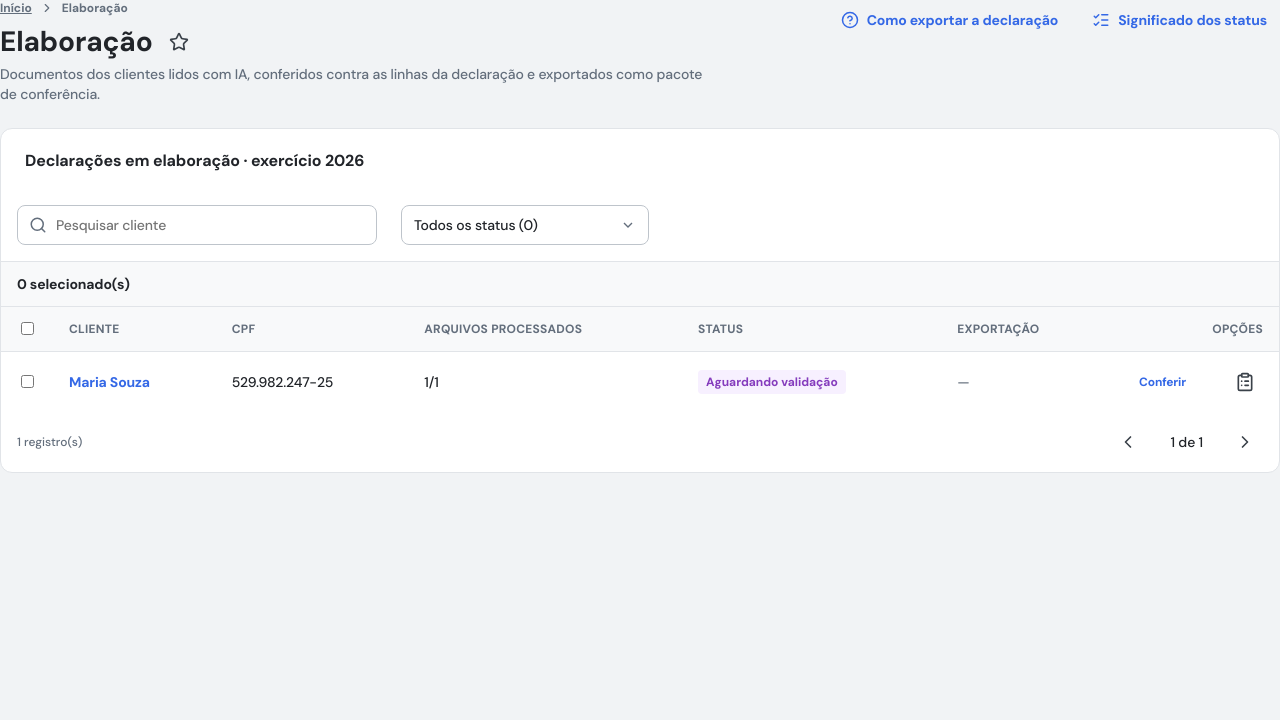
ElaborationPage: permissões iguais às do servidor (CON-14) › pre_declaration.edit decide as linhas, sem processar nem validar
This screenshot has width=1280, height=720.
Expected: the link "Maria Souza" is shown, 69,373 -> 150,391
Step 1. Click the button "Conferir" → coordinates (1162, 382), box 1122,366 -> 1203,398
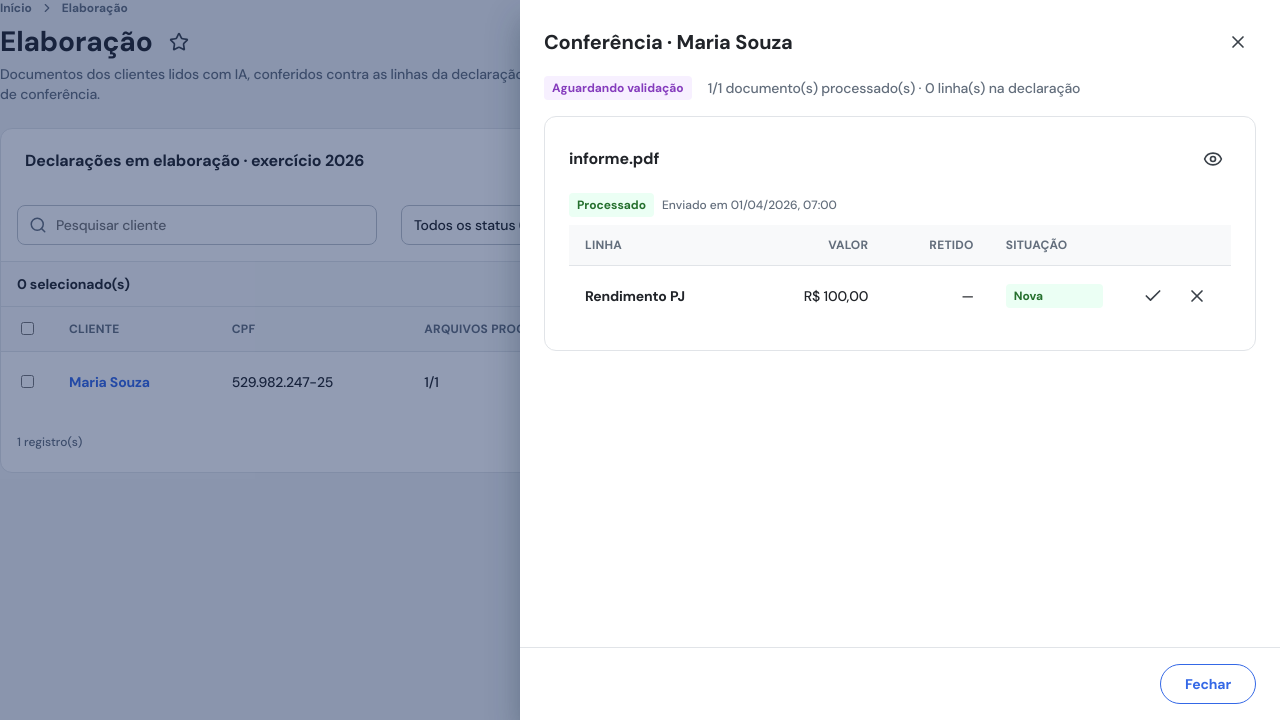
Result: the text "Rendimento PJ" is shown at 585,287 -> 685,305
Result: the button named "Aceitar linha" is shown at 1135,278 -> 1171,314
